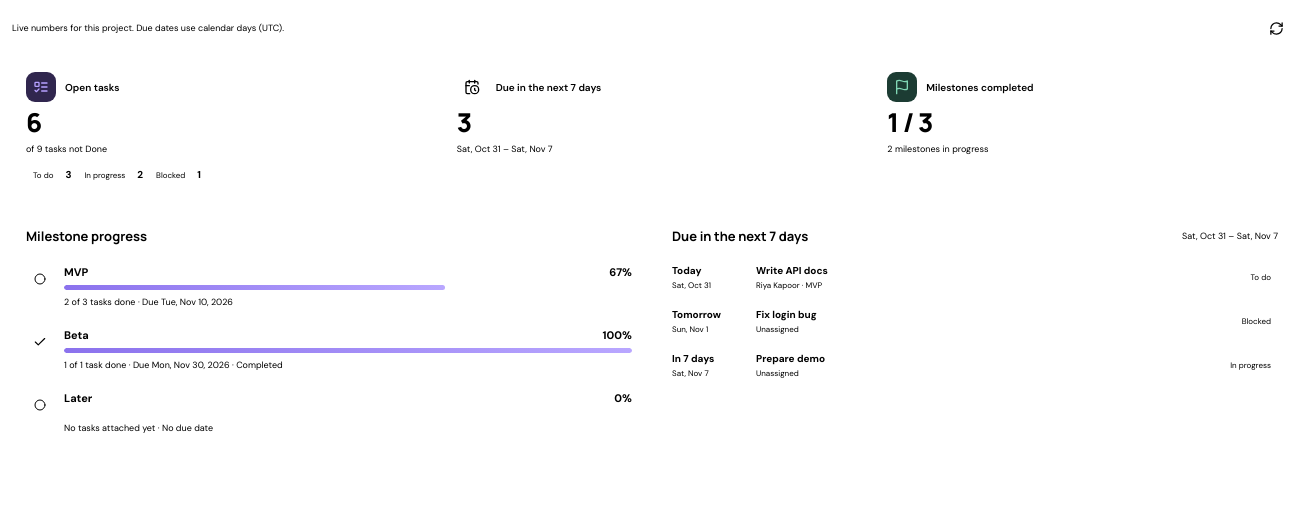
Test: ProjectDashboard › keeps the last numbers if a refresh fails
Expected: the heading "Milestone progress" is shown, [26, 227, 147, 245]
Step 1. Click the button named "Refresh dashboard" → point(1276, 28), box [1260, 12, 1292, 44]
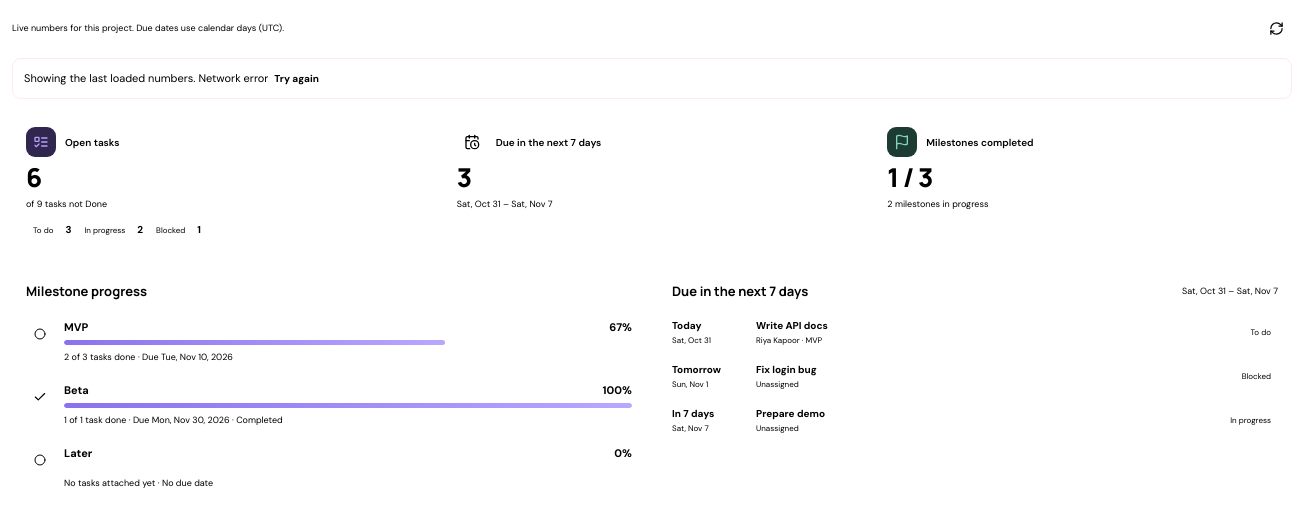
Expected: the progress indicator named "MVP progress" is shown, [64, 340, 444, 345]
Now the message shows "Showing the last loaded numbers. Network error", box [12, 58, 1292, 99]
